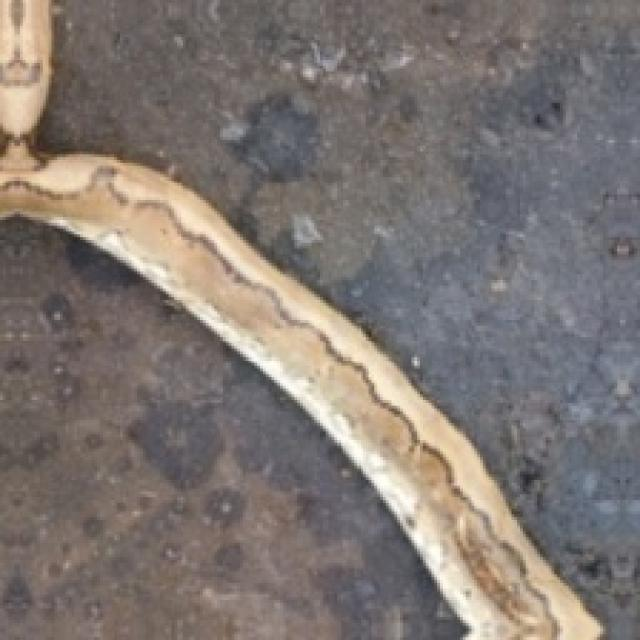reticulated python: (0, 0, 599, 640)
